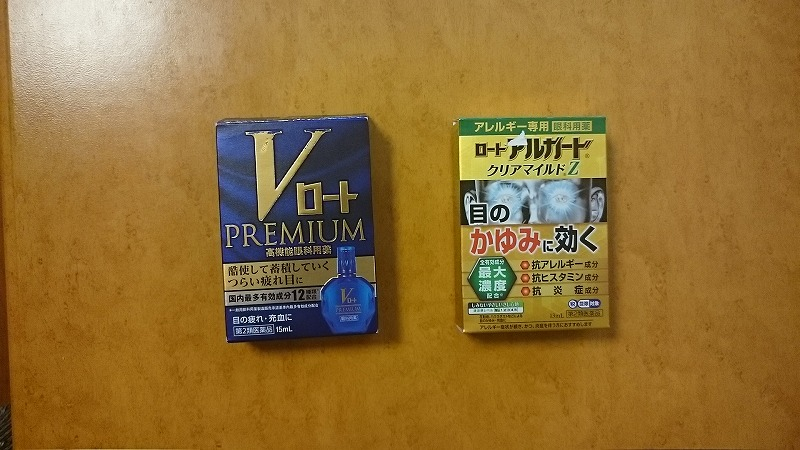C: (446, 115, 616, 337)
D: (215, 110, 385, 345)
